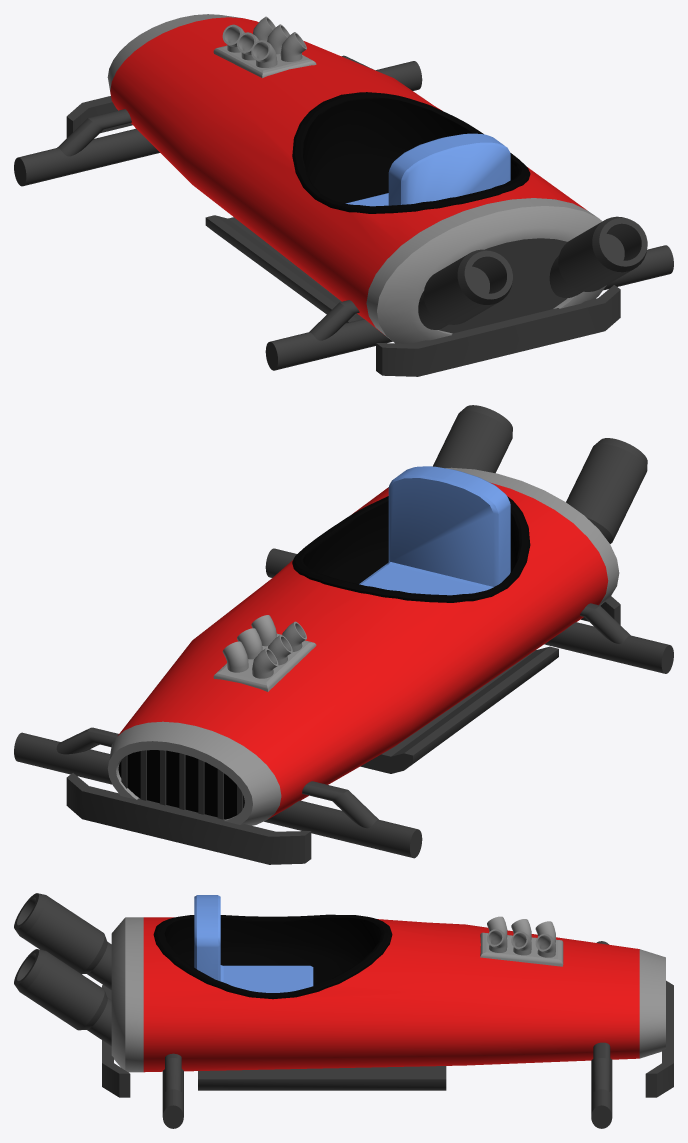
File: bolide.fbx
3 renders of one model, top to bottom at view 1: azimuth 30°, elevation 25°; view 2: azimuth 150°, elevation 25°; view 3: azimuth 270°, elevation 25°, orthographic. The views are drawn at different scales.
Visible parts, largest first — view 1: Cube; view 2: Cube; view 3: Cube.
Boxes of the visible parts, x1=… form: Cube: x1=14, y1=14, x2=673, y2=376; Cube: x1=14, y1=405, x2=673, y2=864; Cube: x1=14, y1=893, x2=673, y2=1128.
Size of the model in its own units: 412 by 175 by 698.
